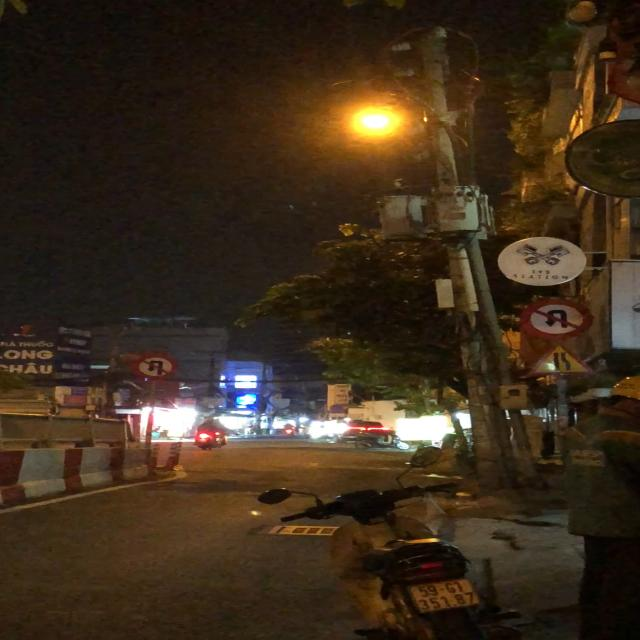Bien bao cam quay dau xe: (515, 296, 598, 339), (131, 352, 182, 380)
Bien bao duong bi thu hep: (525, 339, 598, 377)
